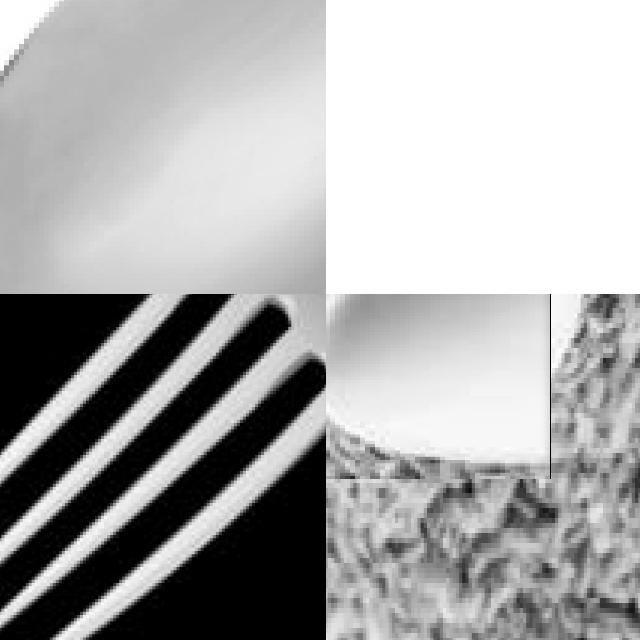forks: (0, 294, 326, 640)
spoons: (0, 0, 326, 294), (326, 294, 579, 451)
